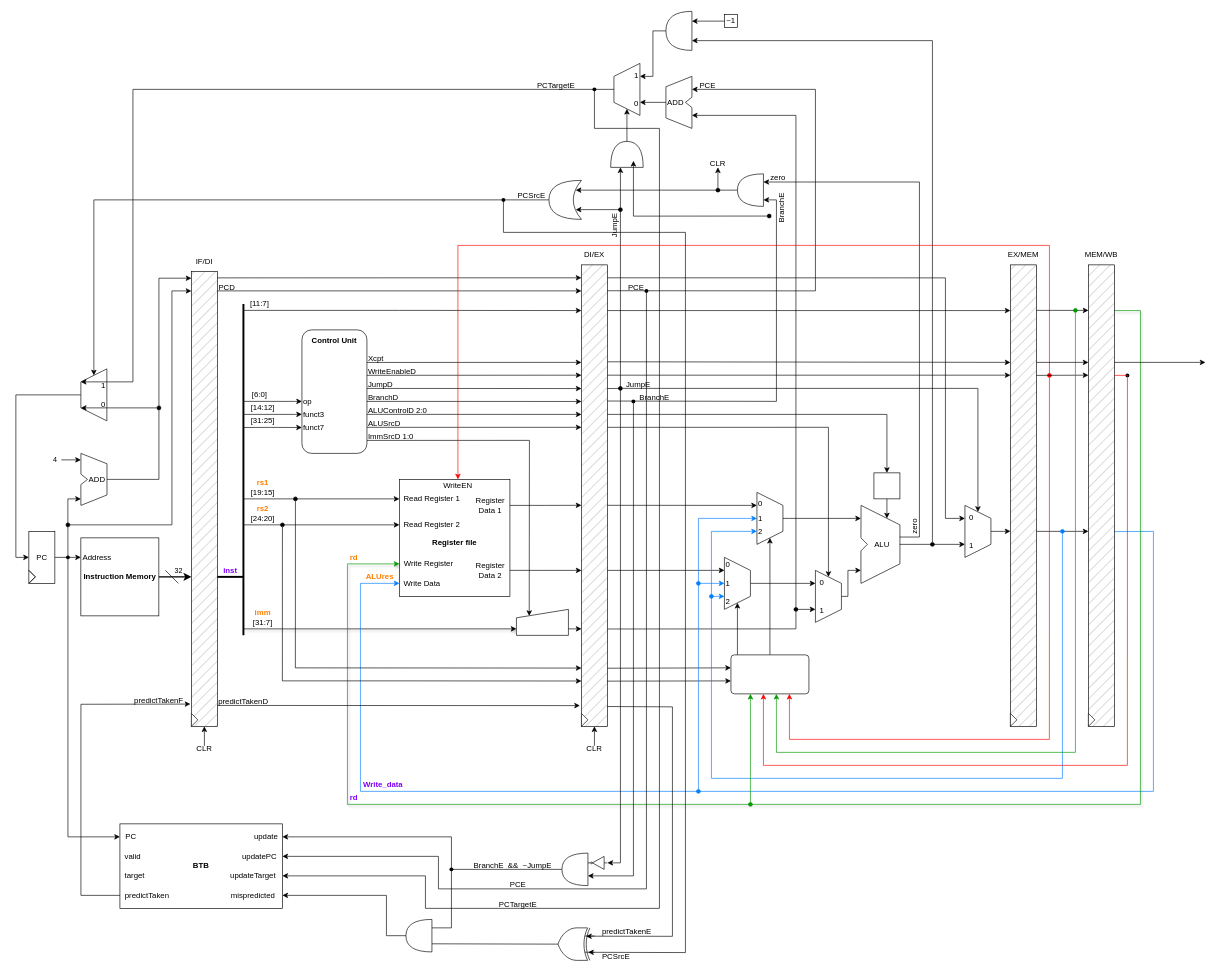
Some shapes in this 1223 by 972 pixel diagram are drawn without their labels. Here are the shapes that lost their labels. From the top down, the centre of each, then its label:
the point at 886,485: ALU control
the point at 542,622: Sign extend
the point at 769,674: ForwardUnit
